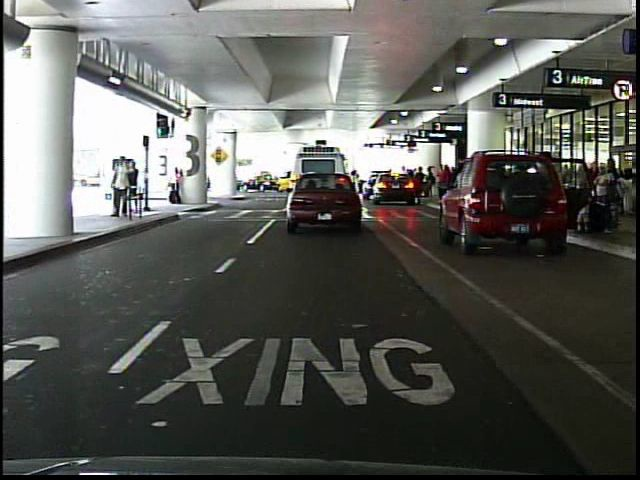person: (532, 149, 566, 236), (109, 153, 134, 223), (128, 159, 145, 219), (166, 168, 186, 209), (436, 164, 452, 203)
